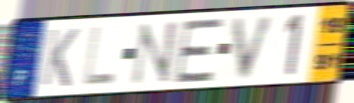1: (283, 12, 304, 79)
E: (172, 16, 226, 85)
K: (39, 27, 81, 89)
L: (81, 24, 117, 88)
N: (129, 19, 181, 87)
V: (231, 13, 279, 81)
